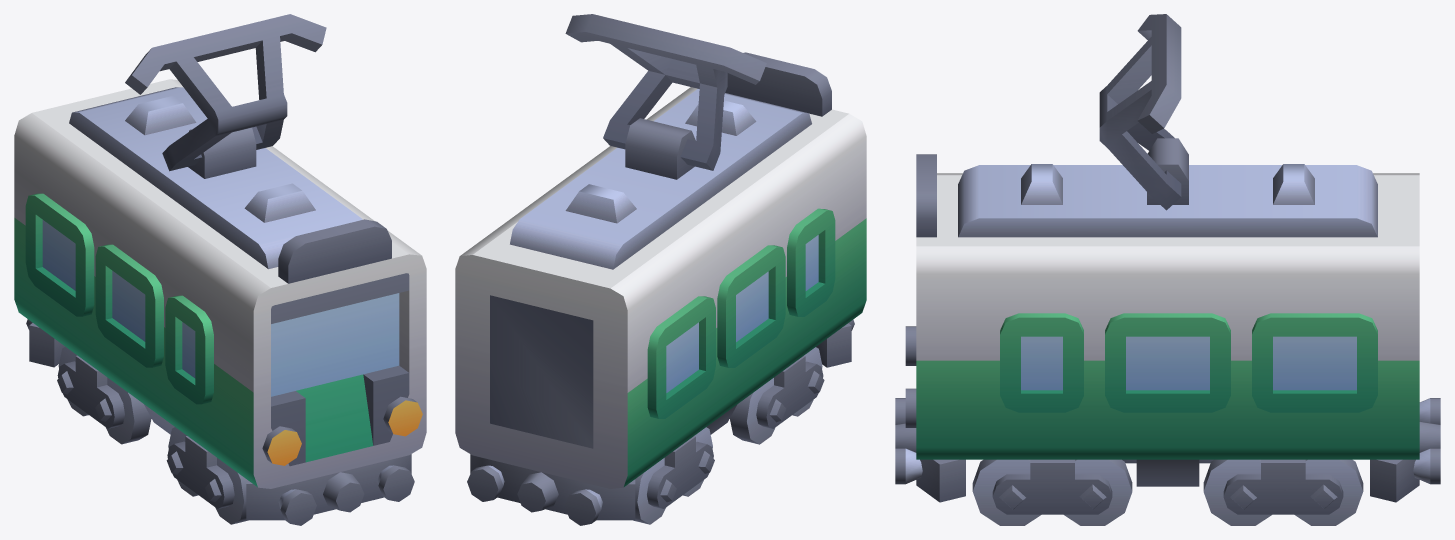
Rendered from kenney-train-train-electric-square-a.glb.
3 renders of one model, left to right at view 1: azimuth 30°, elevation 25°; view 2: azimuth 150°, elevation 25°; view 3: azimuth 270°, elevation 25°, orthographic. The views are drawn at different scales.
Visible parts, largest first — view 1: train-electric-square-a; view 2: train-electric-square-a; view 3: train-electric-square-a.
Part boxes in pixels (box(x1,y1,x2,y2)): train-electric-square-a: box(14, 14, 426, 525); train-electric-square-a: box(455, 14, 866, 525); train-electric-square-a: box(895, 14, 1440, 525).
Size of the model in its own units: 1.13 by 2.32 by 2.6.
Materials: 1 (1 with a texture image).
